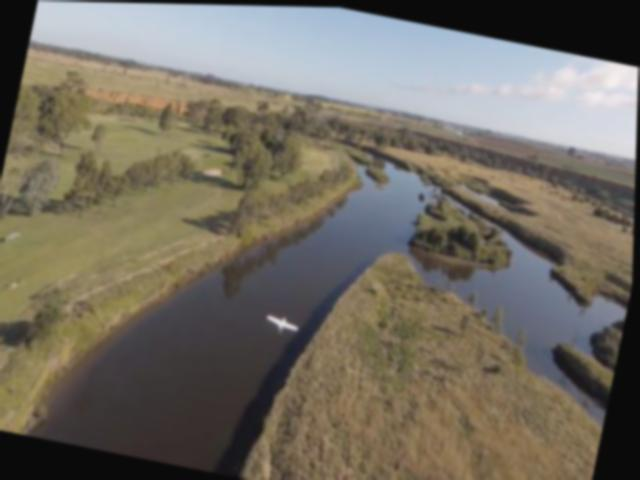uav: (263, 308, 302, 338)
